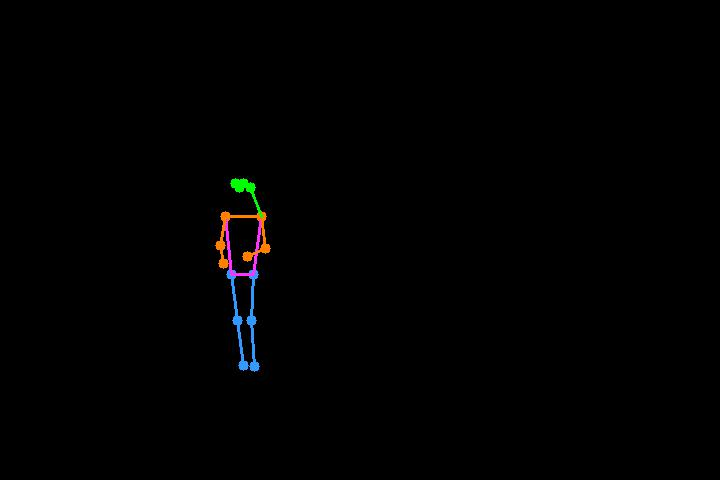normal: (201, 167, 297, 381)
